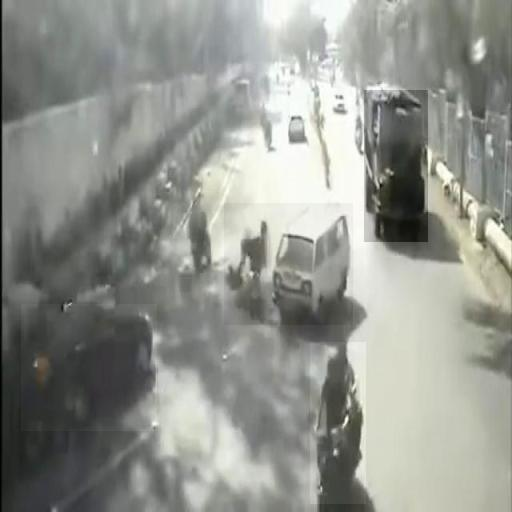小汽车: (22, 304, 158, 431), (364, 90, 428, 242)
小汽车撞自行车: (224, 203, 353, 325)
自行车: (310, 342, 366, 504), (183, 191, 216, 275)
